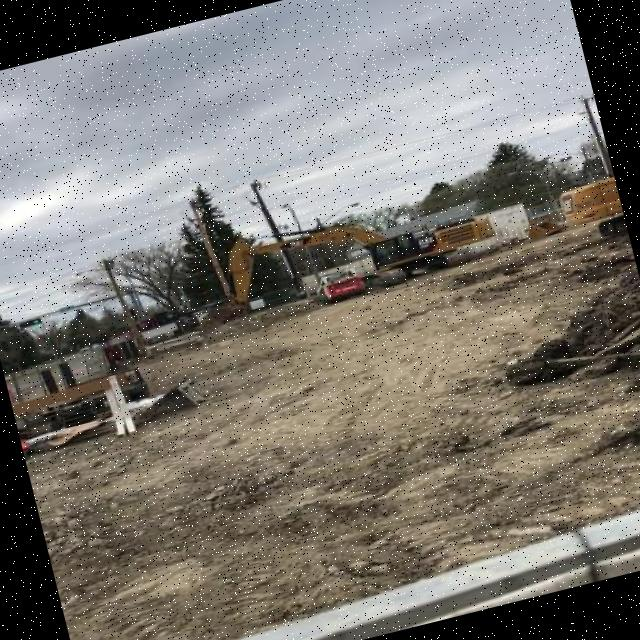Excavator: (178, 175, 501, 341), (561, 173, 629, 250)
